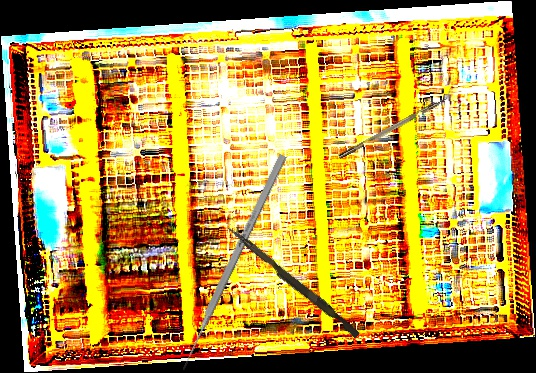Chopper: (335, 87, 456, 160)
Pusher: (179, 153, 287, 372), (223, 225, 363, 339)
